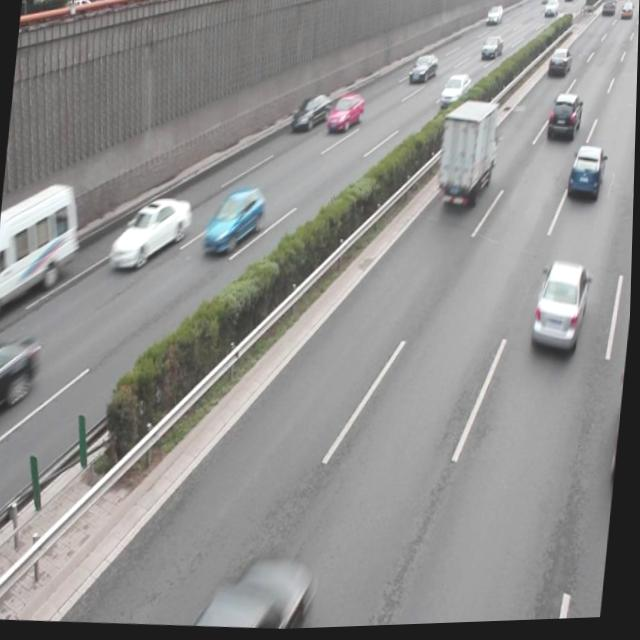bus: (435, 100, 500, 207)
car: (185, 555, 315, 634), (109, 193, 194, 274), (528, 260, 591, 359), (201, 187, 266, 259), (0, 334, 41, 447), (565, 147, 606, 210), (546, 94, 582, 147), (289, 93, 331, 137), (325, 91, 365, 136)
truck: (0, 179, 82, 321)
